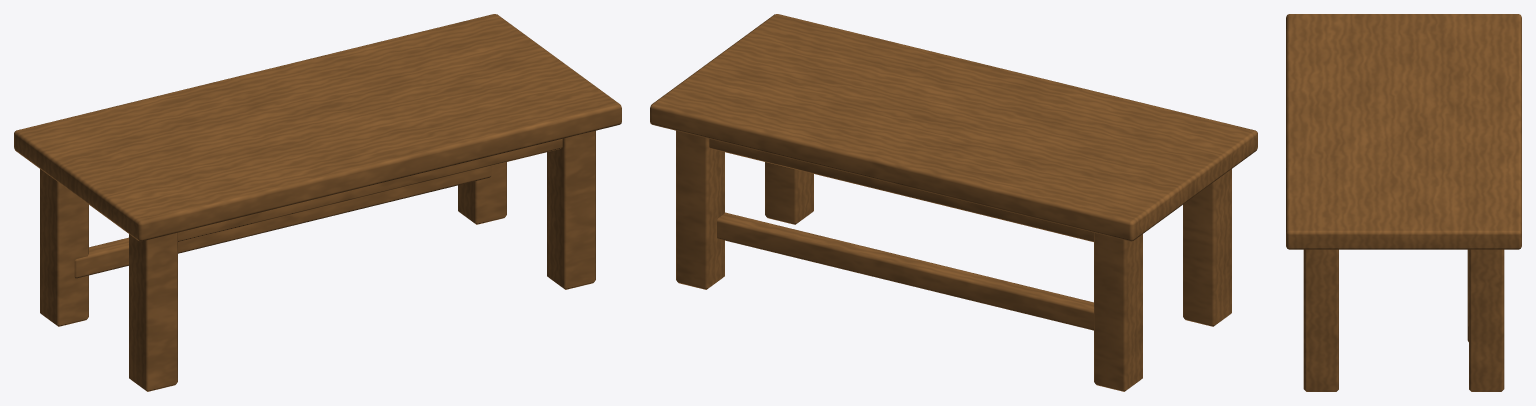
The model's file is Furn_LibraryTable.fbx.
3 views of the same model, side by side, from view 1: azimuth 30°, elevation 25°; view 2: azimuth 150°, elevation 25°; view 3: azimuth 270°, elevation 25° (orthographic). The views are drawn at different scales.
Parts seen in each view (by area): view 1: Furn_LibraryTable_Mesh; view 2: Furn_LibraryTable_Mesh; view 3: Furn_LibraryTable_Mesh.
Part boxes in pixels (<box>): Furn_LibraryTable_Mesh: <box>14,14,621,391</box>; Furn_LibraryTable_Mesh: <box>650,14,1257,391</box>; Furn_LibraryTable_Mesh: <box>1286,14,1521,391</box>.
Bounding box in the file's own units: 2.2 × 0.79 × 1.
1 material, 1 textured.
